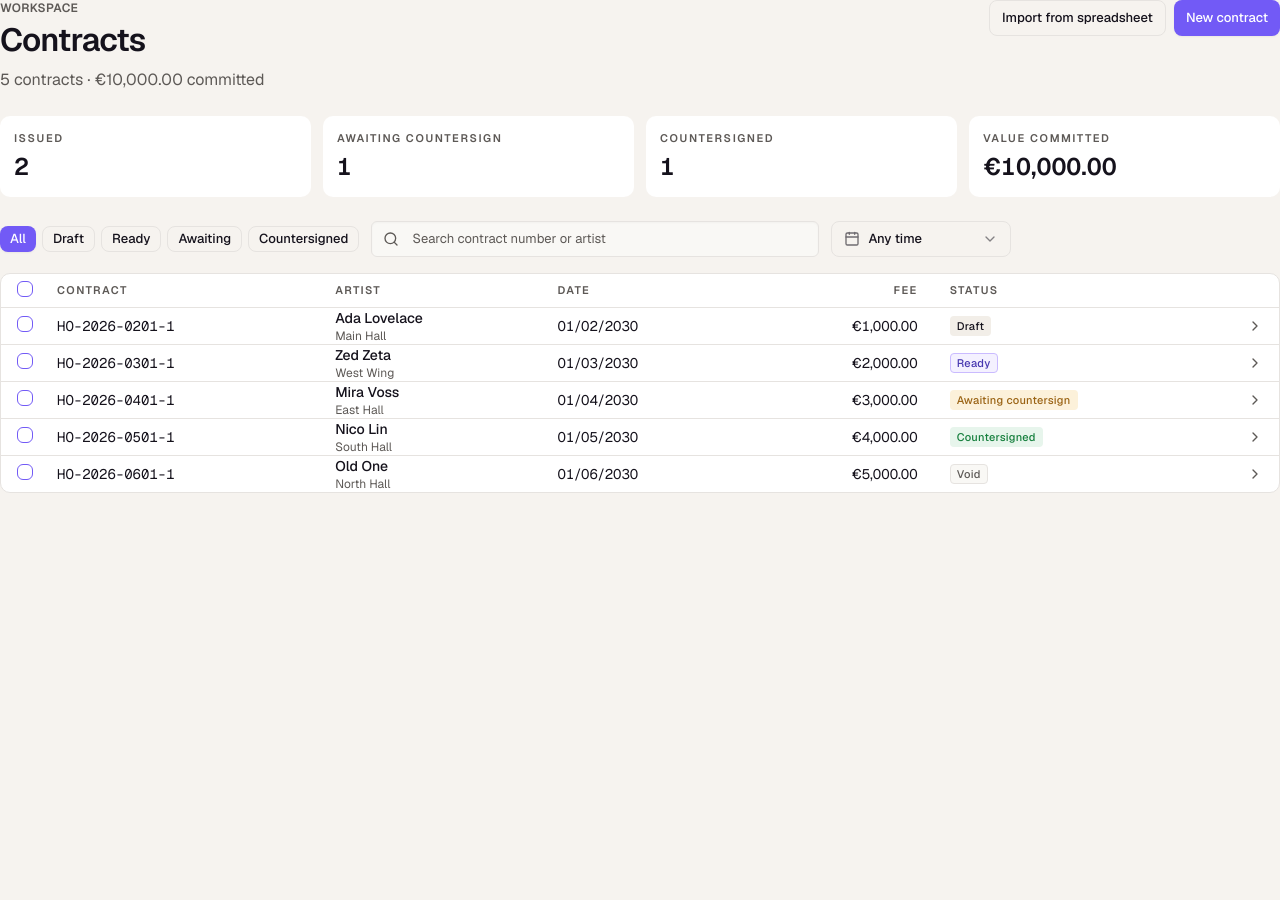
Test: HireOrdersPage › opens the slide-over on row click and shows facts + Issue and send for a draft order
Click the text "HO-2026-0201-1".
click(116, 326)  # box left=57, top=317, right=175, bottom=335
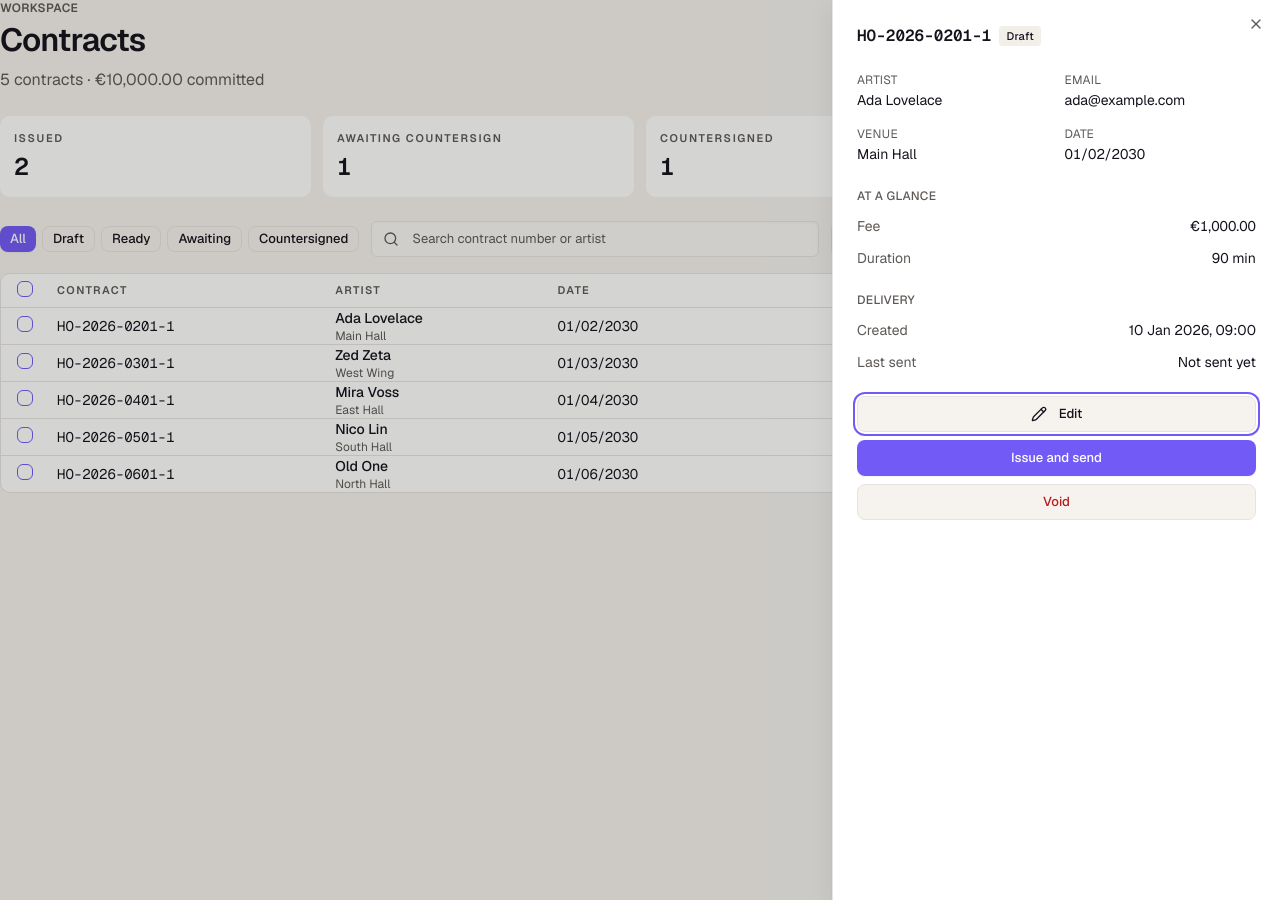
Check: the text "Ada Lovelace" is shown, box left=857, top=91, right=942, bottom=109
Check: the button "Issue and send" is shown, box left=857, top=440, right=1256, bottom=476
Check: the button "Void" is shown, box left=857, top=484, right=1256, bottom=520
